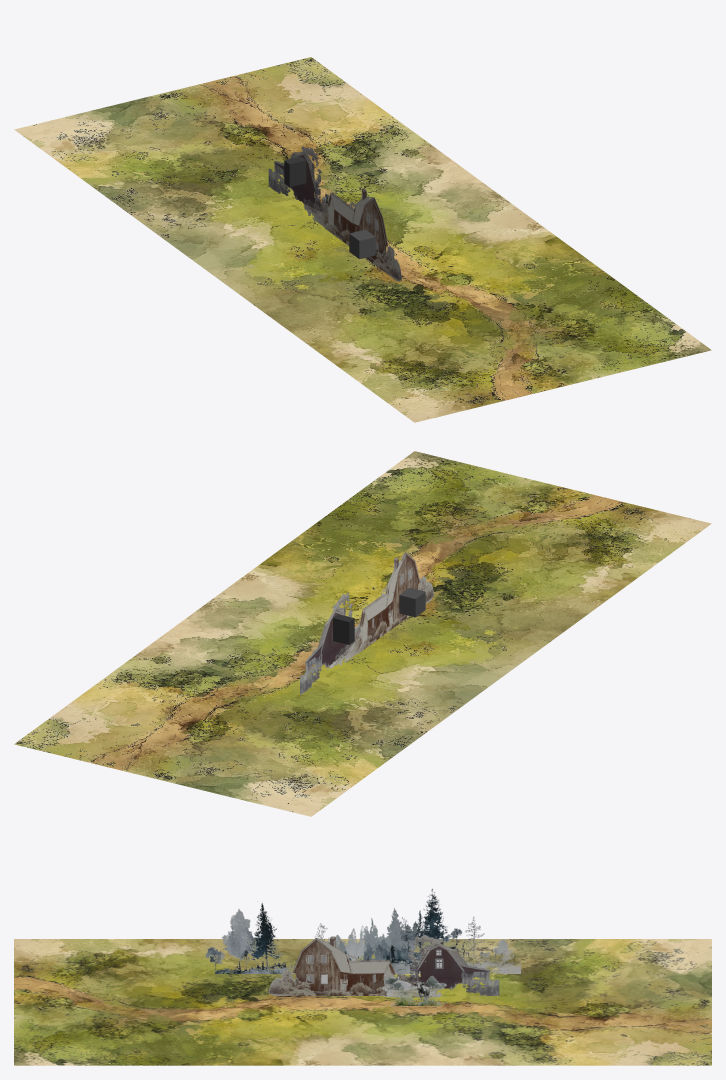
File: kossa3_web.glb
3 renders of one model, top to bottom at view 1: azimuth 30°, elevation 25°; view 2: azimuth 150°, elevation 25°; view 3: azimuth 270°, elevation 25°, orthographic. The views are drawn at different scales.
Parts seen in each view (by area): view 1: matsblomberg_Seamless_top-down_orthographic_ground_texture_s, single00086400.001, single2_00086400.001, Cube; view 2: matsblomberg_Seamless_top-down_orthographic_ground_texture_s, single00086400.001, single2_00086400.001, Cube, Cube.001; view 3: matsblomberg_Seamless_top-down_orthographic_ground_texture_s, matsblomberg_A_silhoutte_of_a_nordic_forest_and_farming_fiel, single00086400, single2_00086400, Bg00086600, matsblomberg_grass_and_flowers_ortographic_top_view_light_wa.
Boxes of the visible parts, x1,y1,x2,y2 form: matsblomberg_Seamless_top-down_orthographic_ground_texture_s: (14,57,711,422); single00086400.001: (324,188,400,281); single2_00086400.001: (268,146,327,226); Cube: (349,229,375,259); matsblomberg_Seamless_top-down_orthographic_ground_texture_s: (14,451,711,816); single00086400.001: (358,531,439,653); single2_00086400.001: (300,593,359,694); Cube: (399,587,425,617); Cube.001: (333,614,354,644); matsblomberg_Seamless_top-down_orthographic_ground_texture_s: (14,939,711,1065); matsblomberg_A_silhoutte_of_a_nordic_forest_and_farming_fiel: (205,888,520,973); single00086400: (258,937,395,995); single2_00086400: (397,935,499,995); Bg00086600: (382,973,446,997); matsblomberg_grass_and_flowers_ortographic_top_view_light_wa: (391,987,442,1005).
Size of the model in its own units: 13.59 by 9.14 by 31.7.
9 materials, 6 textured.
